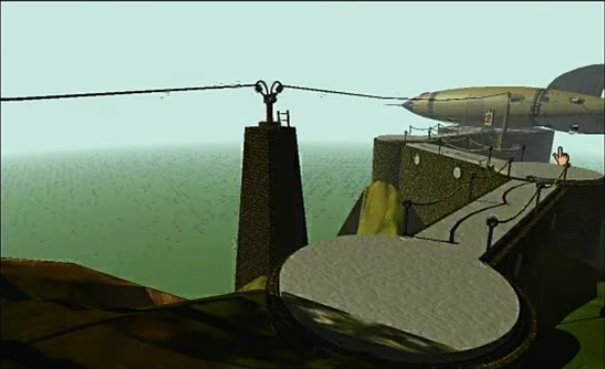Pointer: (549, 143, 576, 167)
